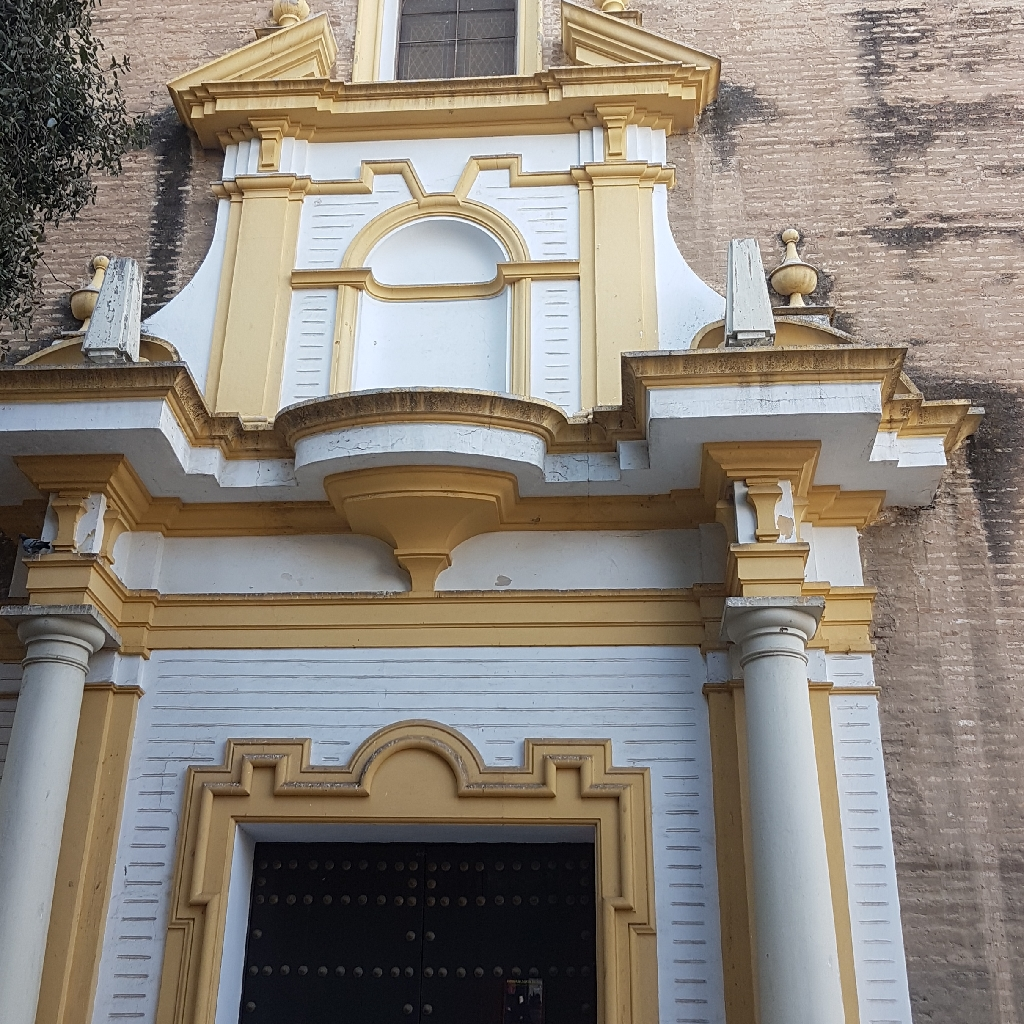arco-medio-punto: (333, 198, 528, 318)
fronton-partido: (164, 1, 732, 114)
